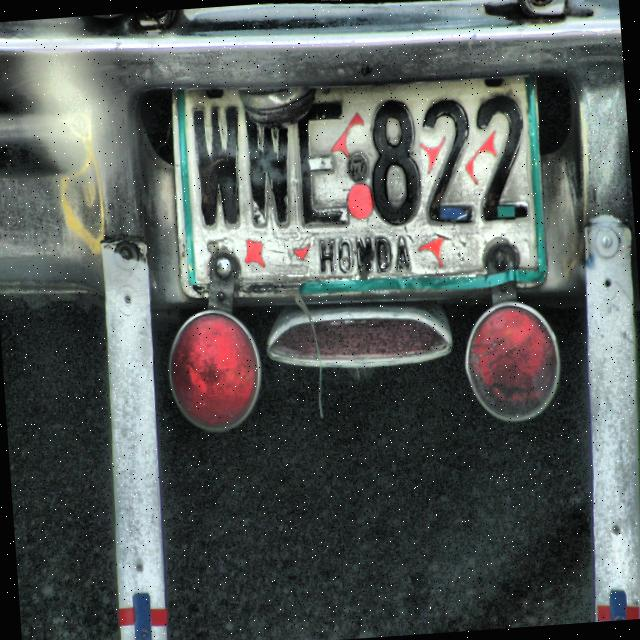plate: (170, 76, 547, 297)
